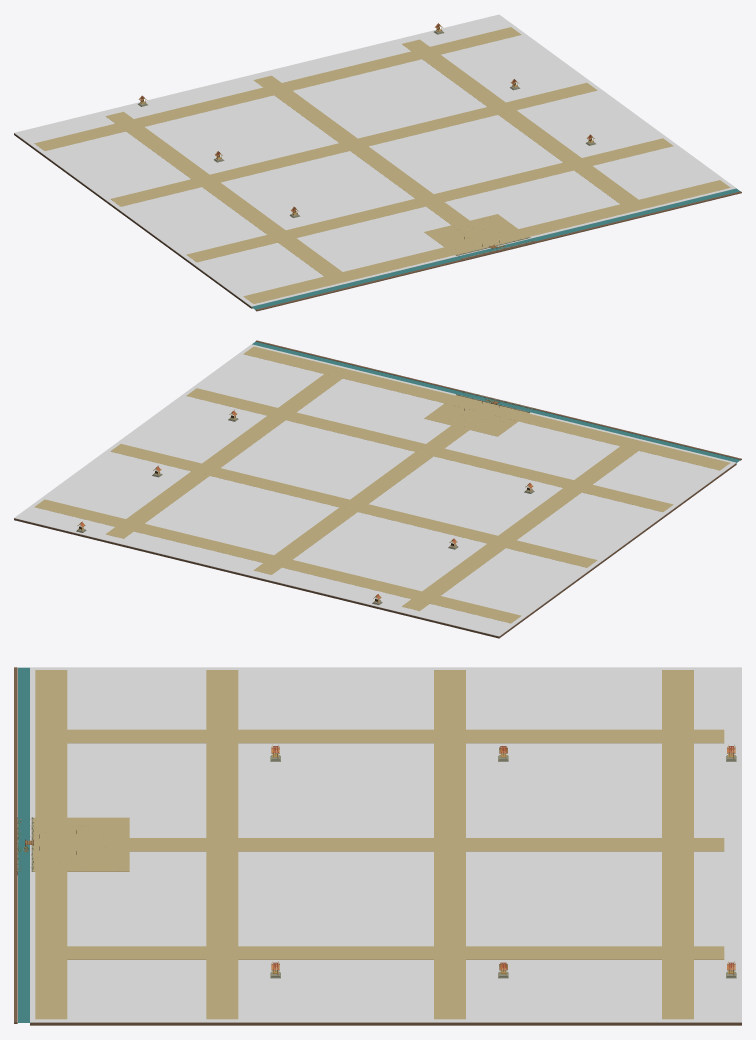
The model's file is bangsai-wilds.glb.
3 renders of one model, top to bottom at view 1: azimuth 30°, elevation 25°; view 2: azimuth 150°, elevation 25°; view 3: azimuth 270°, elevation 25°, orthographic. The views are drawn at different scales.
Parts seen in each view (by area): view 1: Expanded ground · meadow, Regional avenues · sand, River extension · water, Far bank extension · earth, Terrain · sand, Expanded ground · earth; view 2: Expanded ground · meadow, Regional avenues · sand, Expanded ground · earth, River extension · water, Terrain · sand, Far bank extension · earth; view 3: Expanded ground · meadow, Regional avenues · sand, River extension · water, Expanded ground · earth, Terrain · sand, Far bank extension · earth, River · water.
Boxes of the visible parts, x1=… form: Expanded ground · meadow: x1=14, y1=14, x2=736, y2=306; Regional avenues · sand: x1=34, y1=27, x2=730, y2=303; River extension · water: x1=251, y1=188, x2=739, y2=309; Far bank extension · earth: x1=255, y1=191, x2=741, y2=311; Terrain · sand: x1=424, y1=214, x2=528, y2=255; Expanded ground · earth: x1=14, y1=133, x2=252, y2=308; Expanded ground · meadow: x1=14, y1=344, x2=736, y2=636; Regional avenues · sand: x1=34, y1=346, x2=730, y2=623; Expanded ground · earth: x1=14, y1=463, x2=736, y2=638; River extension · water: x1=252, y1=341, x2=740, y2=463; Terrain · sand: x1=424, y1=395, x2=529, y2=436; Far bank extension · earth: x1=255, y1=340, x2=741, y2=460; Expanded ground · meadow: x1=30, y1=667, x2=741, y2=1022; Regional avenues · sand: x1=35, y1=670, x2=724, y2=1019; River extension · water: x1=18, y1=667, x2=31, y2=1022; Expanded ground · earth: x1=30, y1=1022, x2=741, y2=1025; Terrain · sand: x1=33, y1=817, x2=129, y2=871; Far bank extension · earth: x1=14, y1=667, x2=17, y2=1023; River · water: x1=18, y1=818, x2=29, y2=872.
Size of the model in its own units: 236 by 5.54 by 204.
